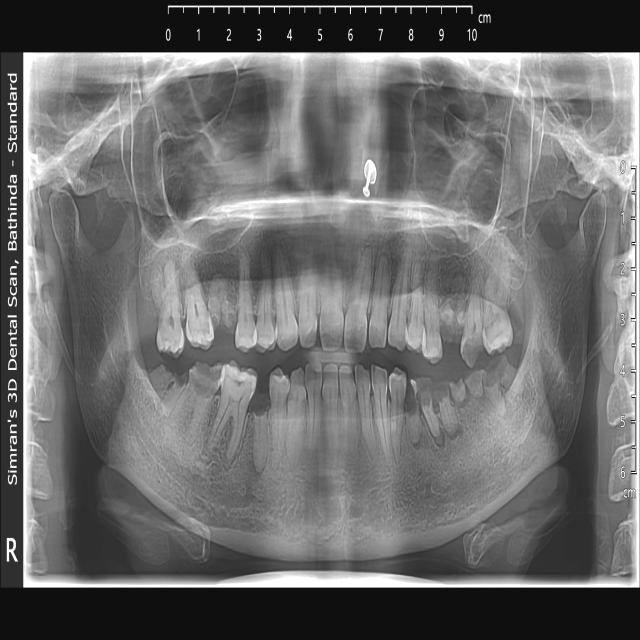Caries: (461, 333, 485, 374), (482, 315, 510, 348), (189, 359, 223, 381)
Periapical lesion: (426, 419, 447, 455), (374, 240, 392, 271), (219, 443, 236, 471), (445, 420, 463, 445), (408, 430, 425, 454), (453, 269, 464, 291), (397, 438, 404, 472)
Root Piece: (481, 352, 523, 421), (148, 364, 188, 418), (207, 271, 240, 333), (415, 376, 441, 438), (435, 381, 463, 434), (250, 405, 268, 476), (405, 381, 421, 442), (440, 303, 465, 324), (449, 376, 466, 406), (466, 370, 482, 396)
